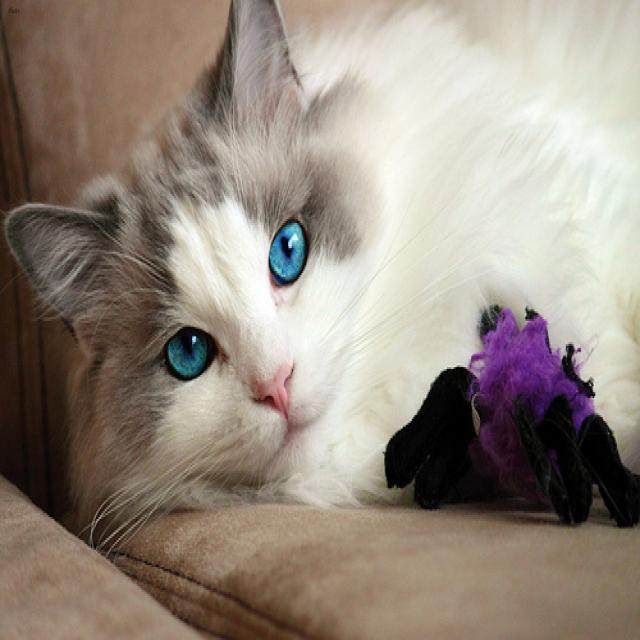Ragdoll: (0, 0, 383, 498)
